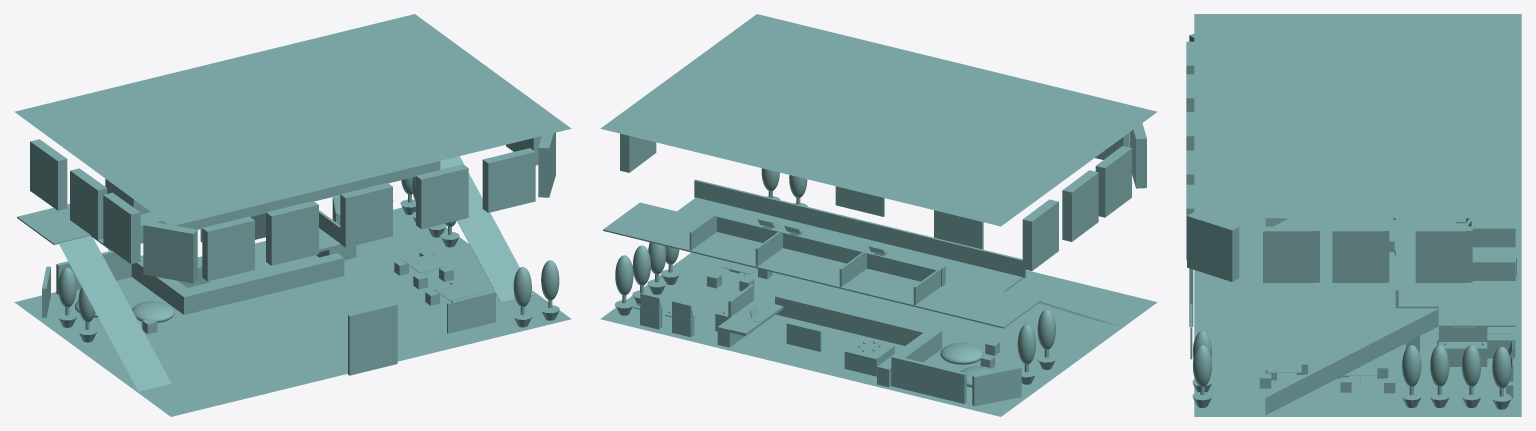
The model's file is Tests.fbx.
3 renders of one model, left to right at view 1: azimuth 30°, elevation 25°; view 2: azimuth 150°, elevation 25°; view 3: azimuth 270°, elevation 25°, orthographic. The views are drawn at different scales.
Visible parts, largest first — view 1: pasted__pPlane1, pPlane1, pasted__pCube17 (×6), pPlane2, pasted__pasted__pasted__pCube17 (×2), pCube2, pasted__pPlane2, pCube4, pCube17, pCube14, pasted__pasted__pCube17, pasted__pasted__pPlane1 (+6 smaller); view 2: pasted__pPlane1, pPlane1, pasted__pasted__pPlane1, pCube14, pasted__pCube14, pasted__pasted__pasted__pCube17 (×2), pCube2, pasted__pSphere3 (×4), pCube7, pasted__pasted__pCube17, pasted__pasted__pasted__pCube14 (×3), pasted__pCube7 (+13 smaller); view 3: pasted__pPlane1, pPlane1, pasted__pasted__pPlane1, pasted__pasted__pasted__pasted__pCube17 (×2), pasted__pCube17 (×4), pasted__pasted__pasted__pCube17, pasted__pPlane2, pasted__pSphere3 (×4), pasted__pasted__pasted__pCube14 (×2), pasted__pCube6, pCube6, pSphere3 (+6 smaller).
Part boxes in pixels (box(x1,y1,x2,y2)): pasted__pPlane1: box(14, 14, 571, 226); pPlane1: box(14, 207, 571, 416); pasted__pCube17 (×6): box(143, 132, 555, 283); pPlane2: box(58, 235, 171, 391); pasted__pasted__pasted__pCube17 (×2): box(30, 139, 107, 239); pCube2: box(189, 253, 344, 311); pasted__pPlane2: box(440, 156, 534, 302); pCube4: box(348, 303, 397, 375); pCube17: box(340, 183, 392, 247); pCube14: box(108, 161, 440, 250); pasted__pasted__pCube17: box(103, 192, 140, 264); pasted__pasted__pPlane1: box(17, 176, 415, 250); pasted__pPlane1: box(600, 14, 1157, 226); pPlane1: box(600, 252, 1157, 416); pasted__pasted__pPlane1: box(603, 197, 1040, 328); pCube14: box(694, 179, 1026, 277); pasted__pCube14: box(713, 211, 945, 286); pasted__pasted__pasted__pCube17 (×2): box(1022, 170, 1098, 270); pCube2: box(775, 291, 929, 345); pasted__pSphere3 (×4): box(615, 245, 1055, 364); pCube7: box(891, 355, 966, 403); pasted__pasted__pCube17: box(1095, 146, 1131, 217); pasted__pasted__pasted__pCube14 (×3): box(689, 213, 866, 286); pasted__pCube7: box(972, 366, 1021, 406); pasted__pPlane1: box(1194, 14, 1521, 218); pPlane1: box(1194, 218, 1521, 416); pasted__pasted__pPlane1: box(1398, 218, 1515, 326); pasted__pasted__pasted__pasted__pCube17 (×2): box(1332, 226, 1472, 282); pasted__pCube17 (×4): box(1186, 74, 1239, 281); pasted__pasted__pasted__pCube17: box(1263, 226, 1319, 282); pasted__pPlane2: box(1265, 309, 1438, 415); pasted__pSphere3 (×4): box(1402, 345, 1511, 388); pasted__pasted__pasted__pCube14 (×2): box(1472, 227, 1515, 280); pasted__pCube6: box(1439, 327, 1487, 341); pCube6: box(1439, 342, 1487, 366); pSphere3: box(1193, 345, 1211, 386).
Bounding box in the file's own units: 21.89 × 9.69 × 14.73.
